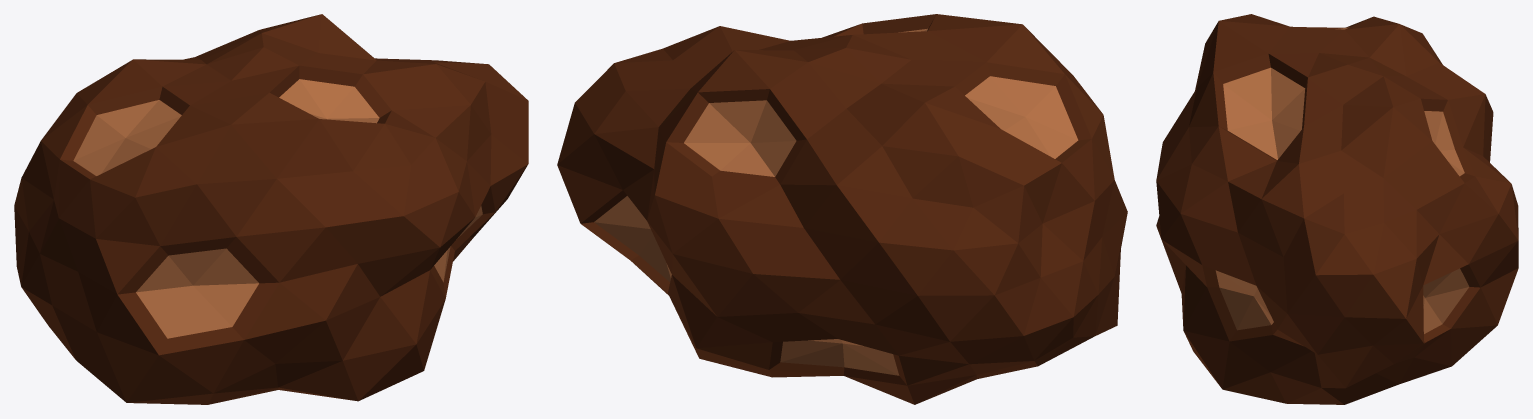
File: meteor00.gltf
The picture shows the model from 3 angles, left to right: view 1: azimuth 30°, elevation 25°; view 2: azimuth 150°, elevation 25°; view 3: azimuth 270°, elevation 25°; orthographic projection. The views are drawn at different scales.
Parts seen in each view (by area): view 1: meteor00; view 2: meteor00; view 3: meteor00.
Boxes of the visible parts, box(x1,y1,x2,y2) form: meteor00: box(14, 14, 528, 404); meteor00: box(557, 14, 1127, 404); meteor00: box(1156, 14, 1518, 404).
Bounding box in the file's own units: 2.95 × 1.89 × 2.05.
